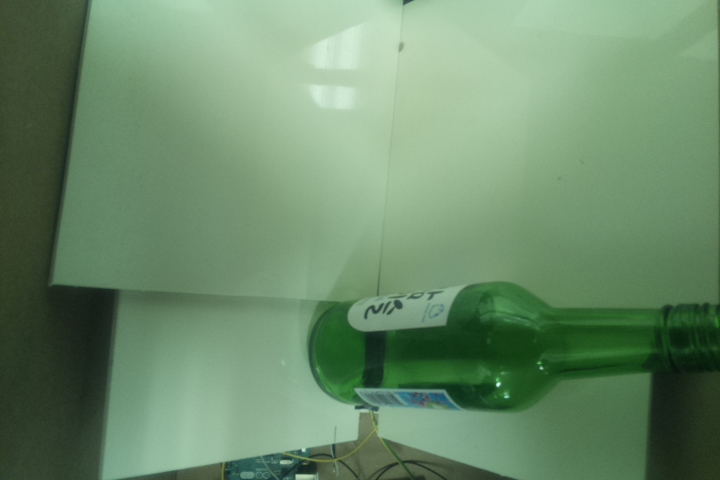soju: (308, 279, 720, 416)
